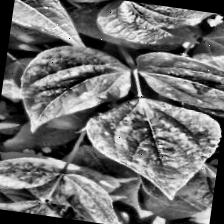Bean Rust: (78, 97, 224, 204), (15, 41, 134, 145), (140, 52, 224, 123)
